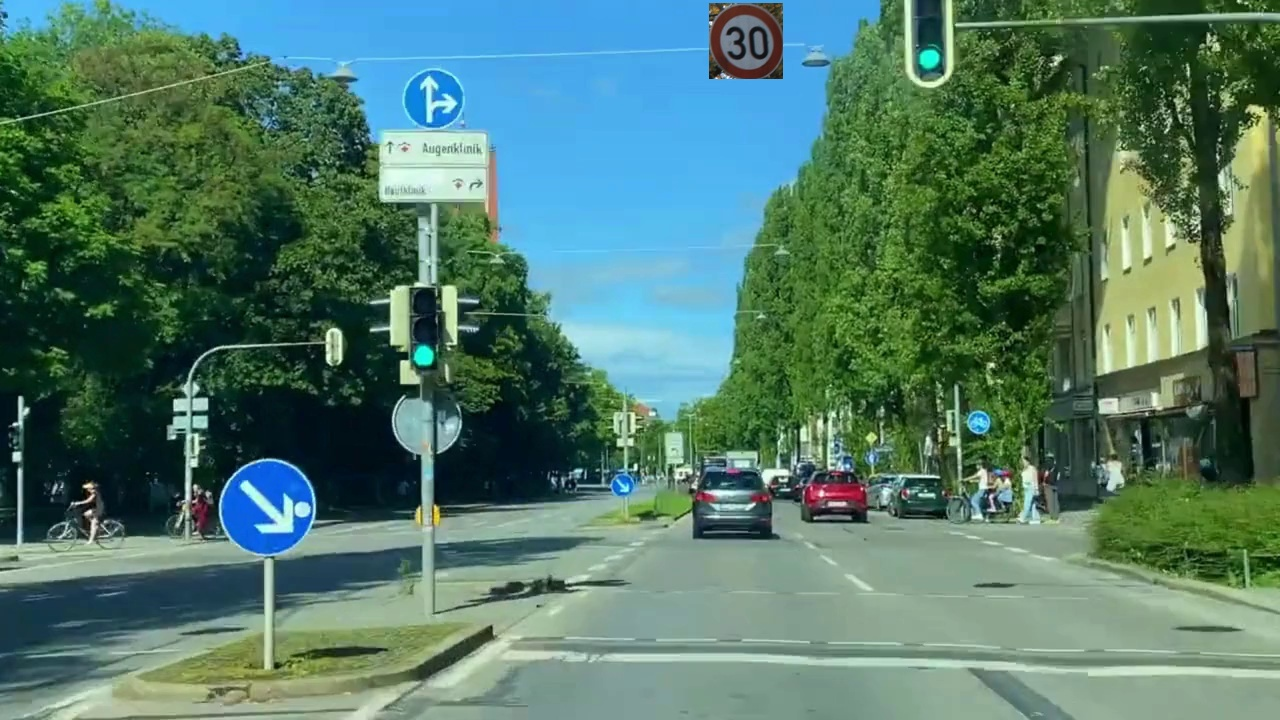Speed 30: (709, 3, 783, 79)
